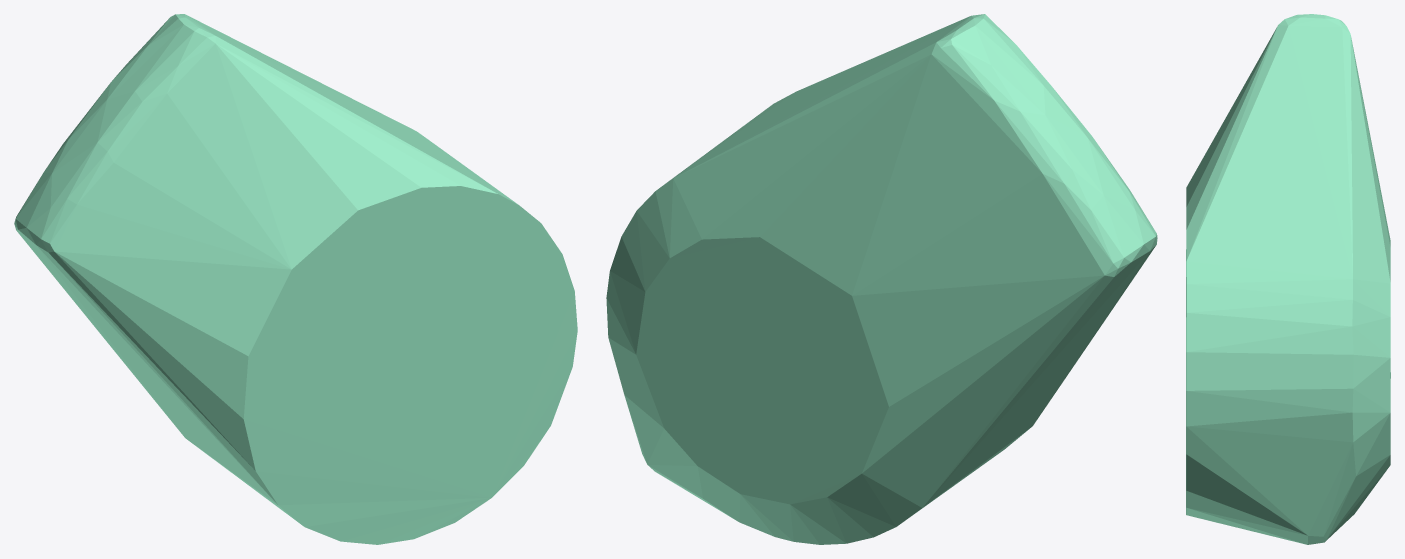
File: dualpanda_Panda_rightArm_link7_respondable_coll_1.dae
The picture shows the model from 3 angles, left to right: view 1: azimuth 30°, elevation 25°; view 2: azimuth 150°, elevation 25°; view 3: azimuth 270°, elevation 25°; orthographic projection. The views are drawn at different scales.
Parts seen in each view (by area): view 1: node; view 2: node; view 3: node.
Boxes of the visible parts, bbox=[...] form: node: bbox=[14, 14, 577, 544]; node: bbox=[606, 14, 1157, 544]; node: bbox=[1186, 14, 1390, 544].
Bounding box in the file's own units: 0.1253 × 0.1252 × 0.0549.
